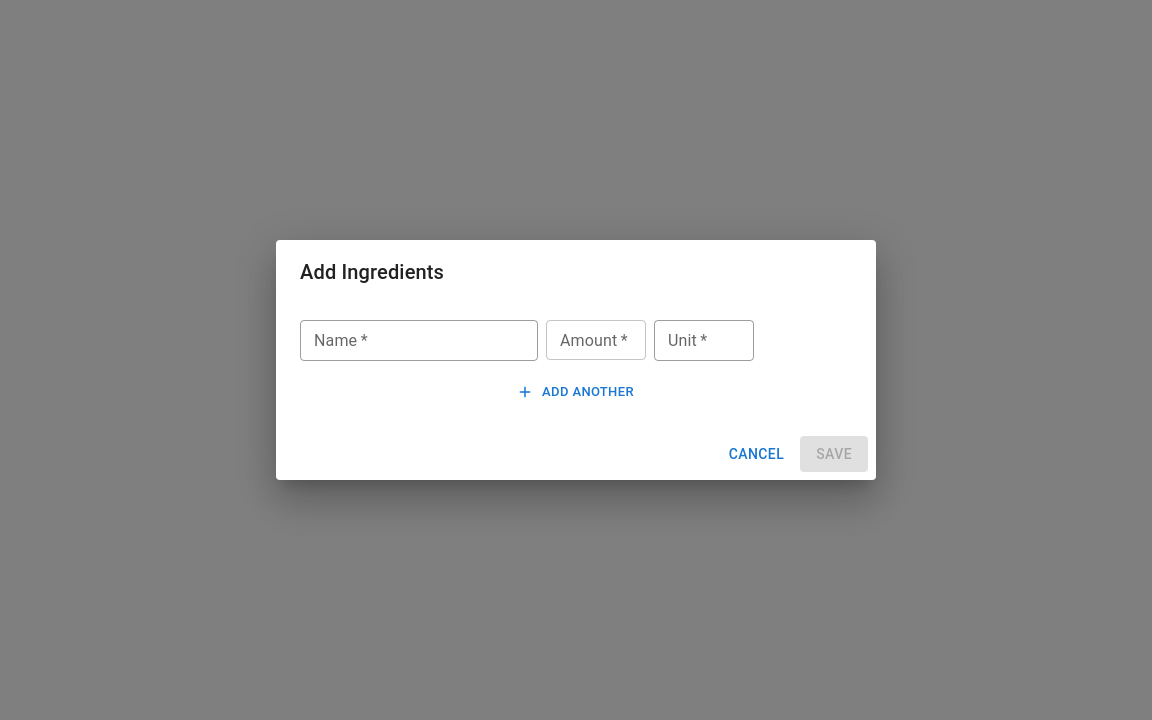
Scenario: IngredientFormDialog › Add mode › save button is enabled when all fields are filled
Step 1. Type "Sugar" into the field labelled "Name *" → [419, 340], box [300, 320, 538, 361]
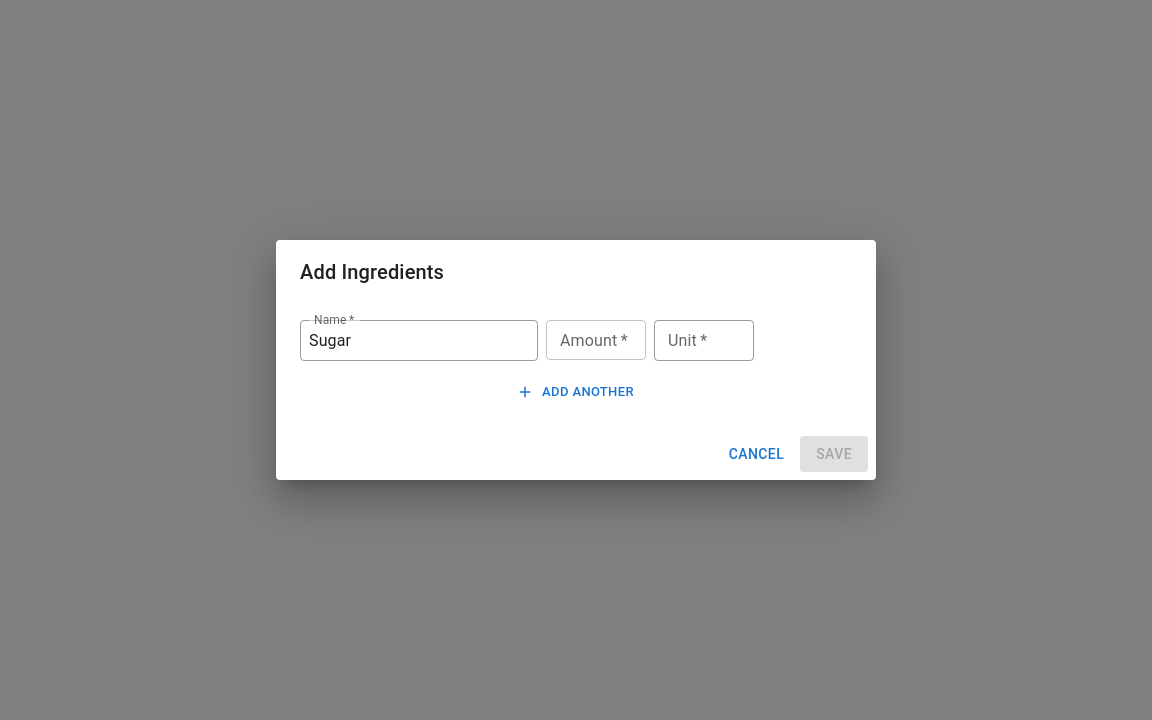
Step 2. Type "100" into the number field labelled "Amount *" → [596, 340], box [546, 320, 646, 360]
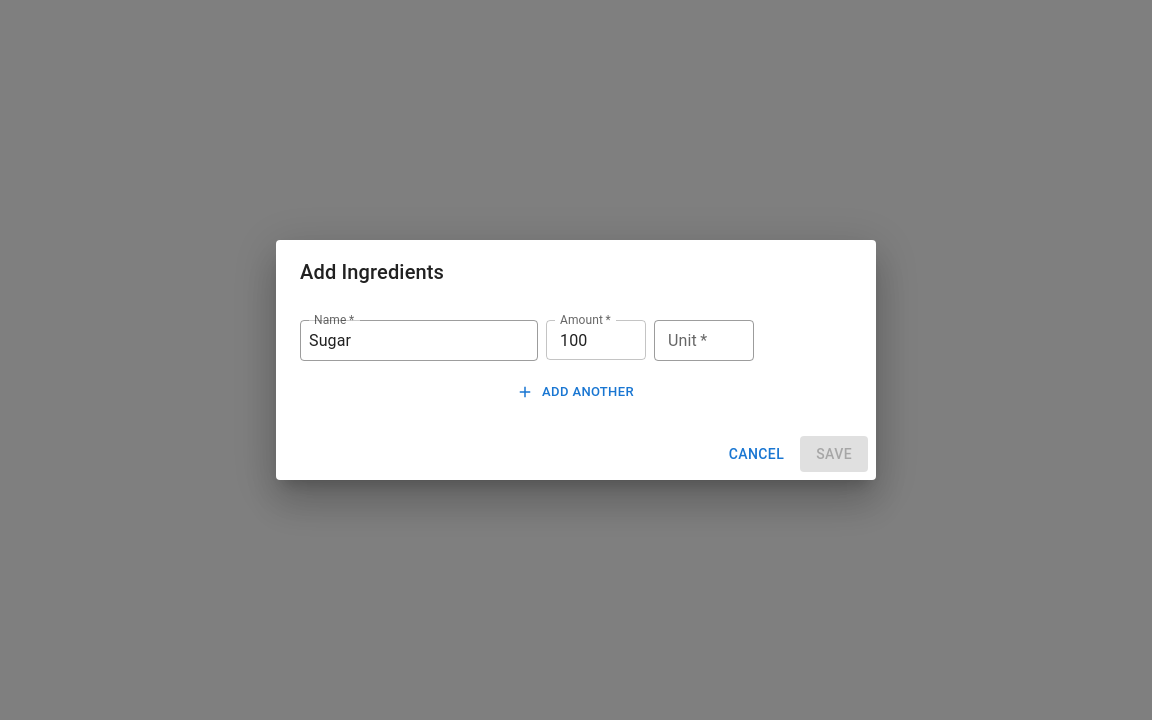
Step 3. Type "g" into the field labelled "Unit *" → [704, 340], box [654, 320, 754, 361]
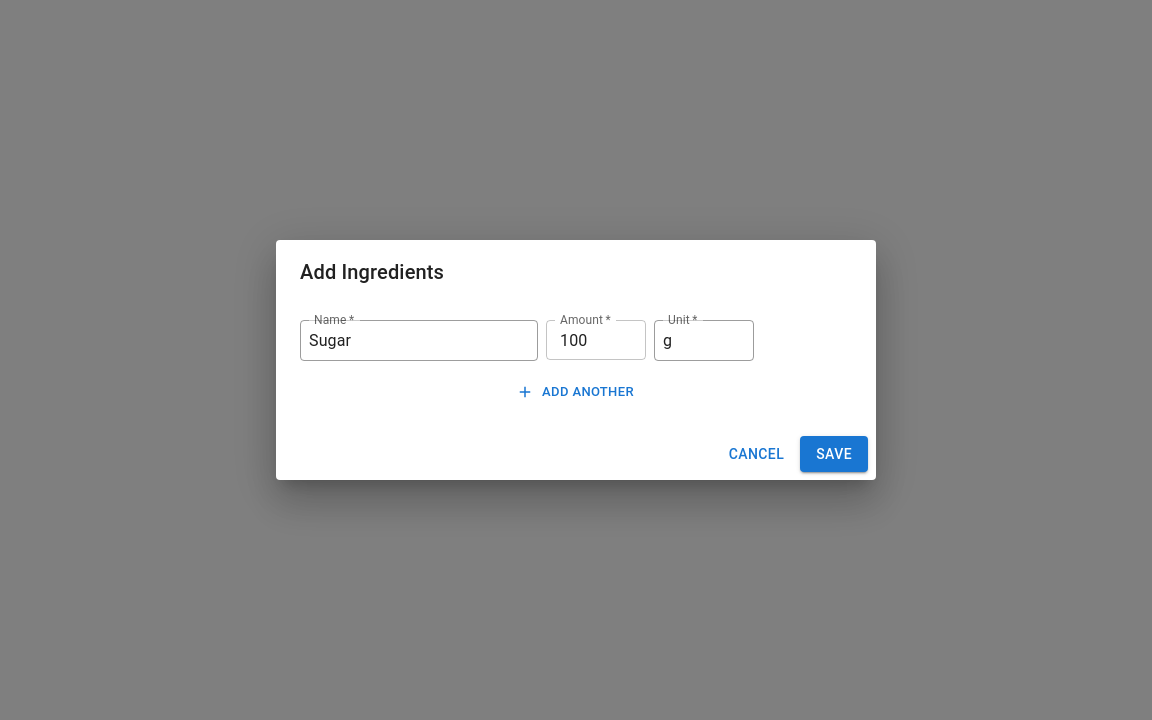
Now the button "Save" is enabled, box [800, 436, 868, 472]
